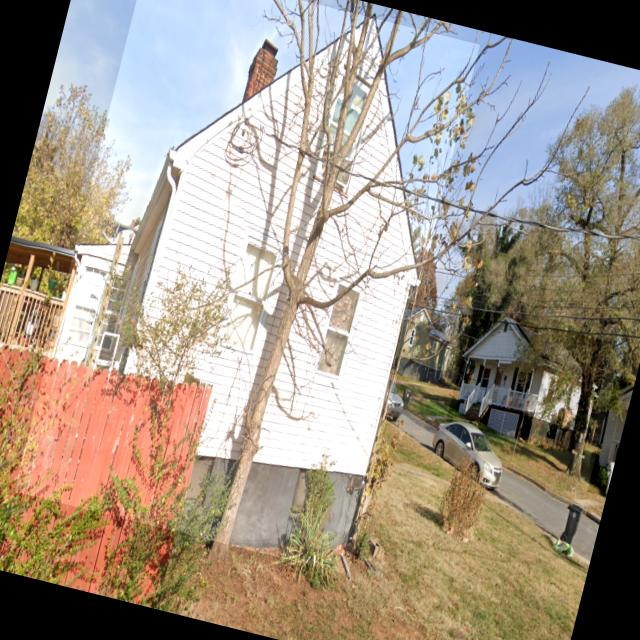House: (13, 0, 479, 574), (446, 308, 612, 456), (388, 303, 459, 387), (586, 376, 634, 496)
